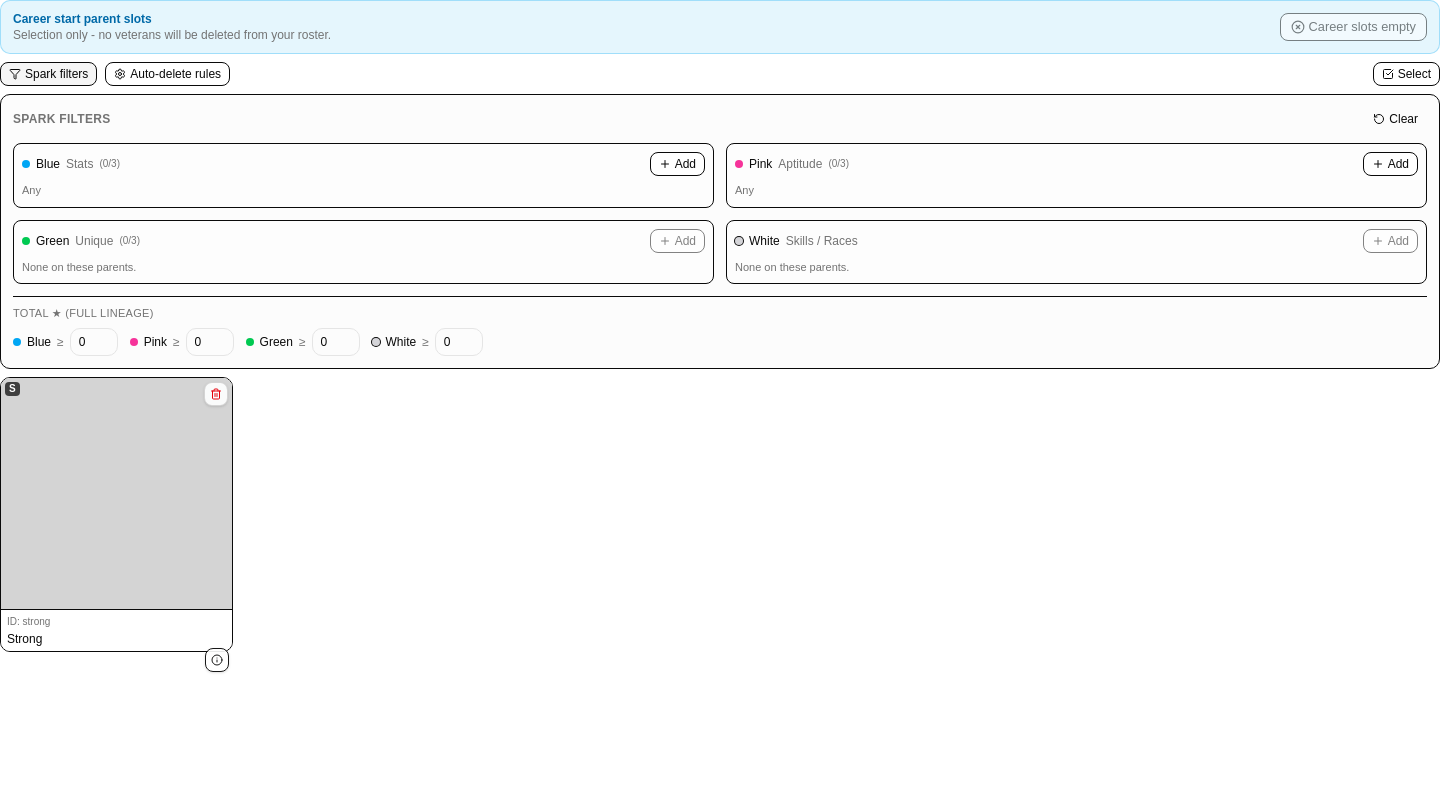
Test: ParentGrid spark filter › opens touch spark details without selecting or starting deletion
Click the button named "Spark details for Strong" at (217, 660), box top-left (205, 648), bottom-right (229, 672)
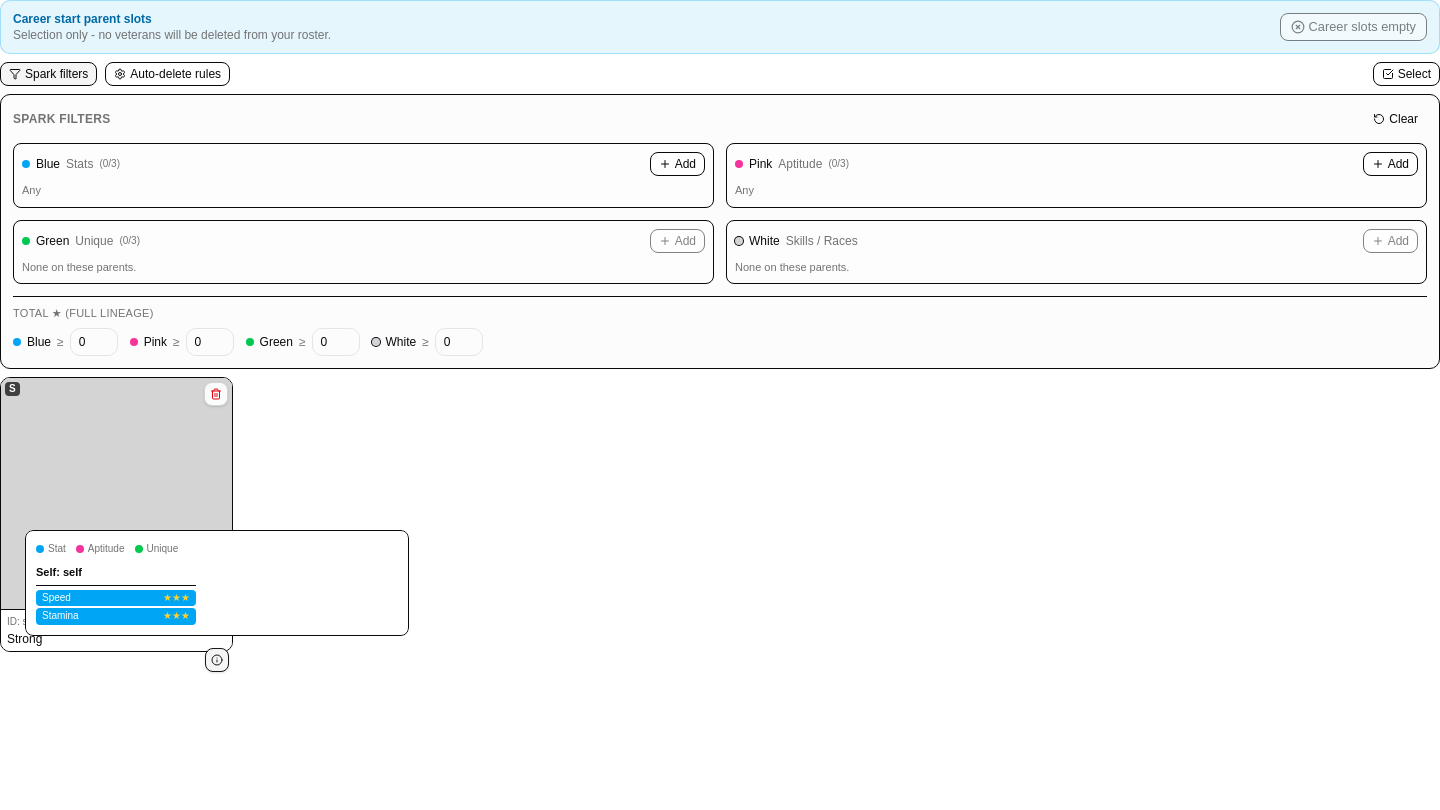
Now the dialog named "Spark details for Strong" is shown, box top-left (25, 530), bottom-right (409, 636)
